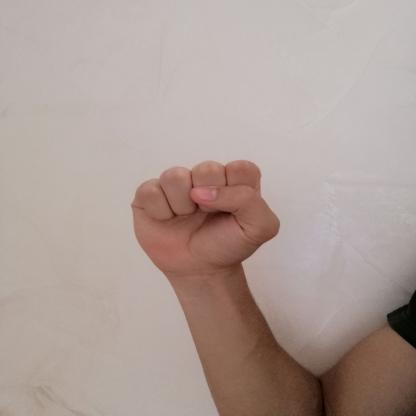SAD: (110, 152, 301, 290)
